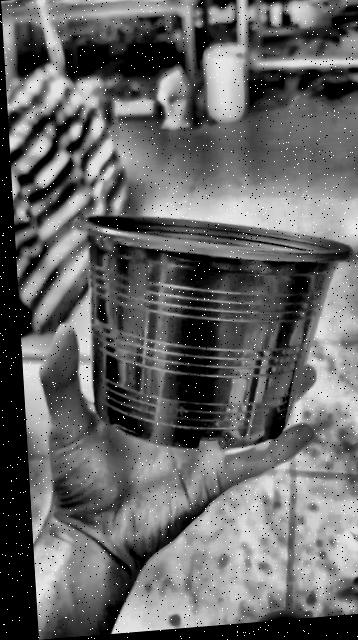pot: (76, 215, 349, 447)
